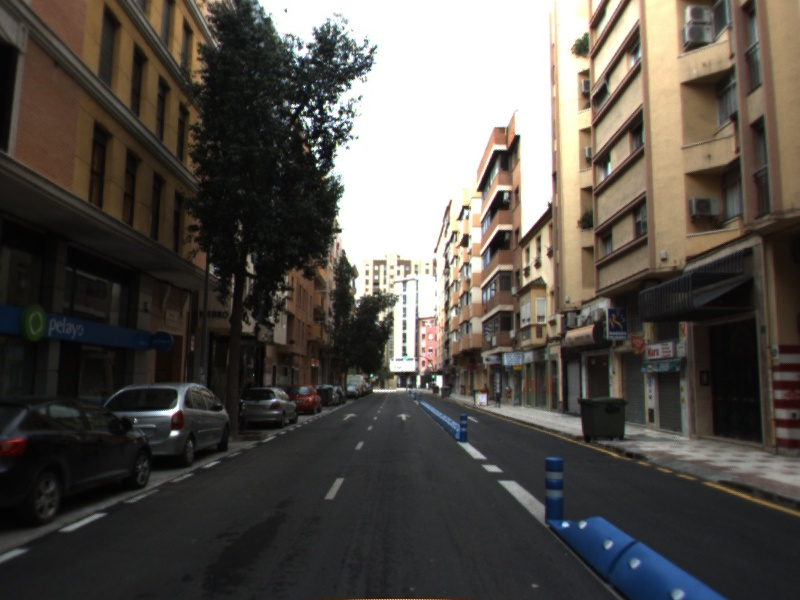STRAIGHT: (395, 412, 413, 422), (341, 412, 359, 422)
